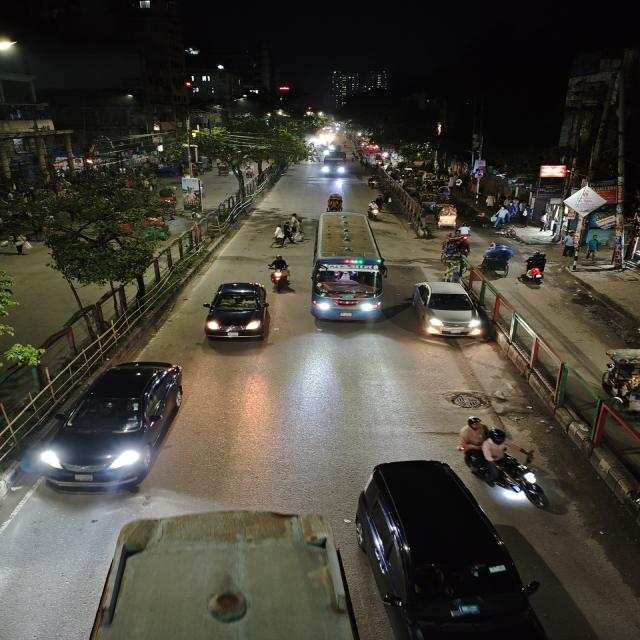bicycle: (504, 224, 522, 243)
bus: (308, 208, 389, 327), (321, 150, 348, 178)
car: (350, 457, 533, 640), (35, 355, 195, 499), (405, 280, 488, 344), (199, 278, 273, 346)
motorcycle: (456, 418, 553, 510), (518, 249, 550, 287), (265, 254, 295, 292), (366, 198, 384, 222), (366, 175, 381, 189)
pedestrian: (270, 219, 296, 248), (560, 231, 581, 263), (585, 232, 601, 260)
rickshaw: (598, 344, 640, 419), (437, 234, 472, 272), (480, 243, 516, 277), (432, 203, 460, 230), (323, 192, 346, 212)
